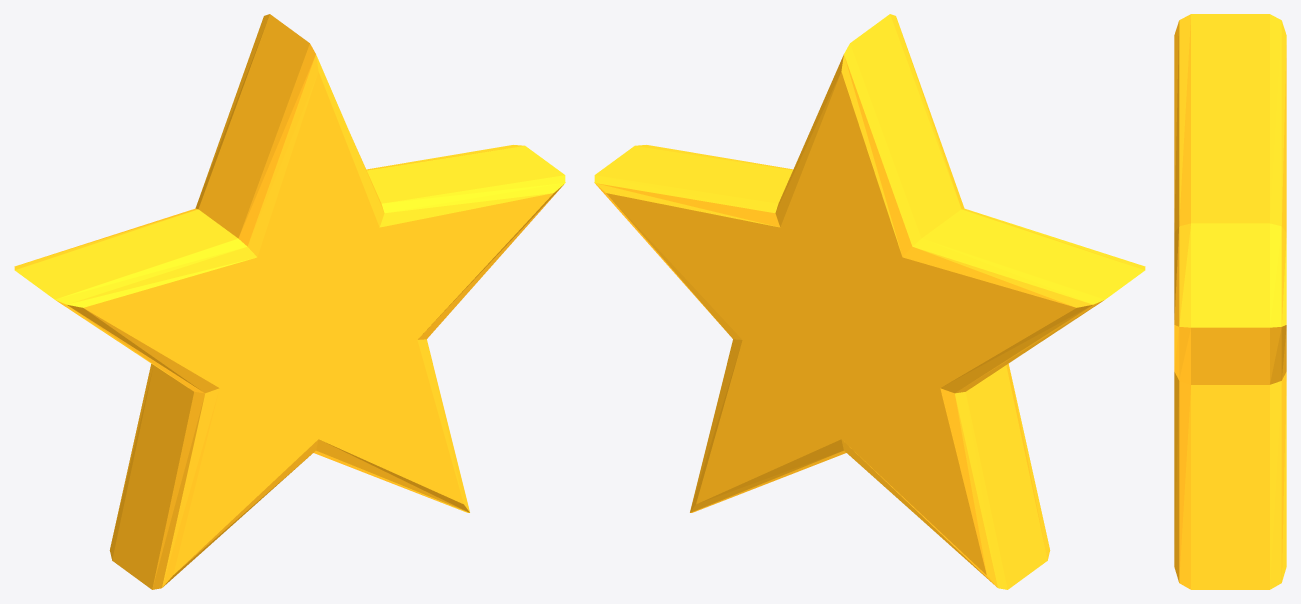
Rendered from star.glb.
3 views of the same model, side by side, from view 1: azimuth 30°, elevation 25°; view 2: azimuth 150°, elevation 25°; view 3: azimuth 270°, elevation 25° (orthographic).
Size of the model in its own units: 1.03 by 0.9813 by 0.2.
